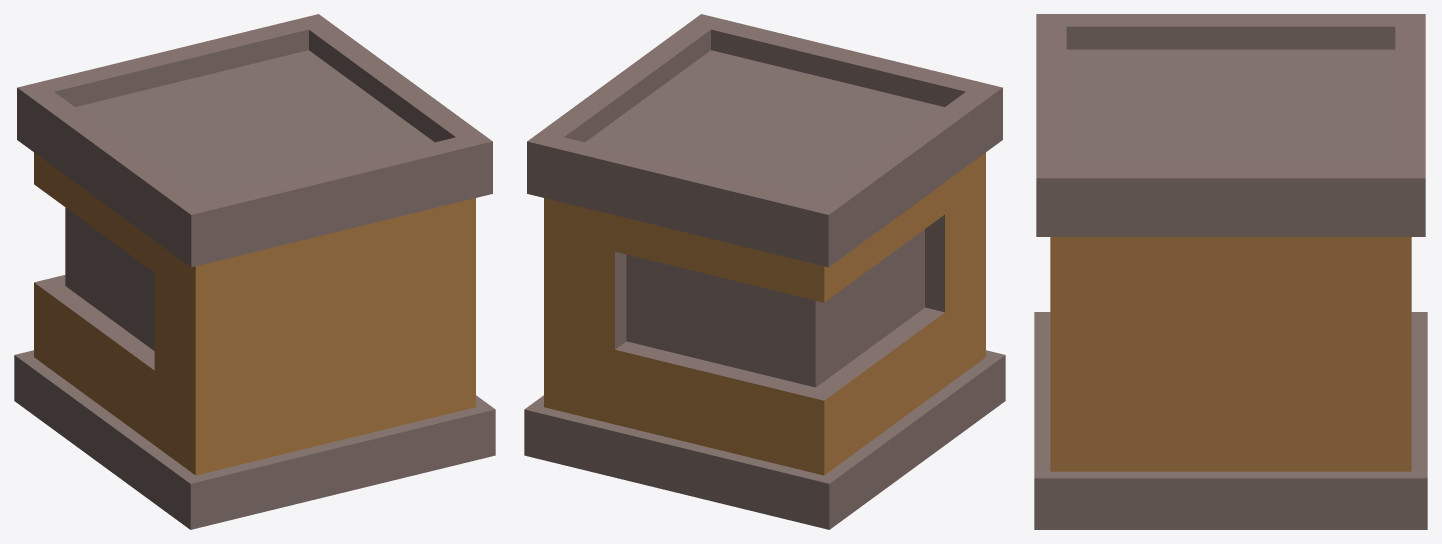
File: Map-House-S-Lv1-R.fbx
3 renders of one model, left to right at view 1: azimuth 30°, elevation 25°; view 2: azimuth 150°, elevation 25°; view 3: azimuth 270°, elevation 25°, orthographic. The views are drawn at different scales.
Visible parts, largest first — view 1: Map-House-S-Lv1-R; view 2: Map-House-S-Lv1-R; view 3: Map-House-S-Lv1-R.
Boxes of the visible parts, box(x1,y1,x2,y2) form: Map-House-S-Lv1-R: box(14, 14, 495, 529); Map-House-S-Lv1-R: box(524, 14, 1005, 529); Map-House-S-Lv1-R: box(1034, 14, 1427, 529).
Size of the model in its own units: 1.32 by 1.3 by 1.32.
